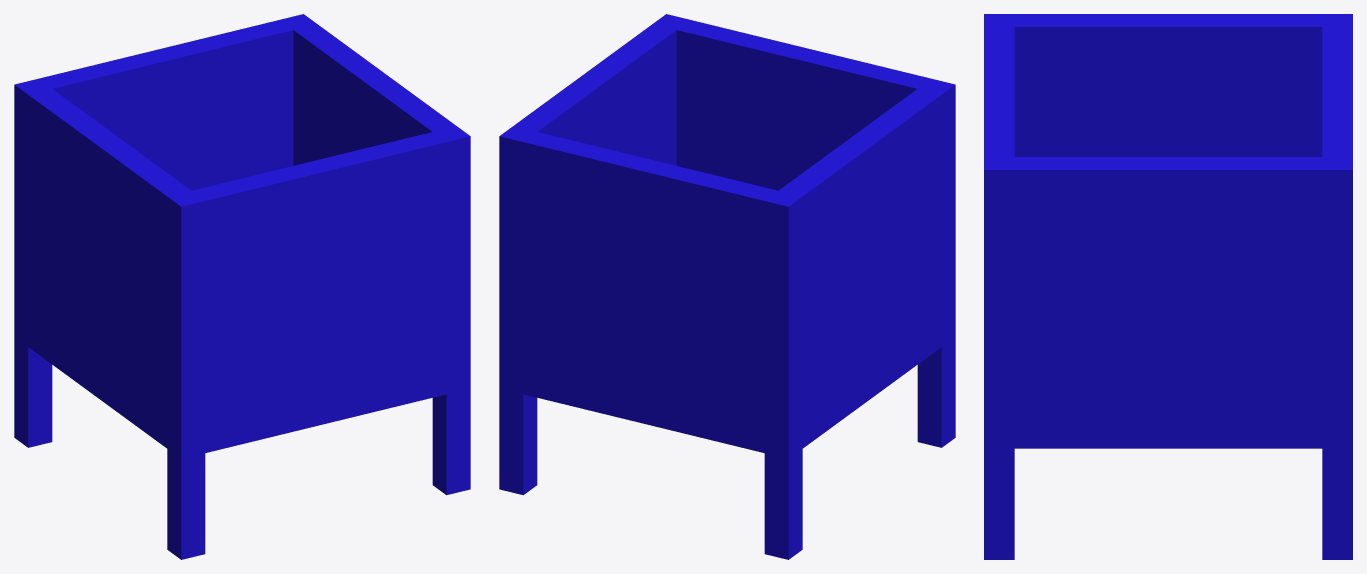
The model's file is bin.dae.
3 views of the same model, side by side, from view 1: azimuth 30°, elevation 25°; view 2: azimuth 150°, elevation 25°; view 3: azimuth 270°, elevation 25° (orthographic). The views are drawn at different scales.
Parts seen in each view (by area): view 1: bin v1; view 2: bin v1; view 3: bin v1.
Boxes of the visible parts, x1,y1,x2,y2 form: bin v1: [14, 14, 470, 559]; bin v1: [499, 14, 955, 559]; bin v1: [984, 14, 1352, 559].
Size of the model in its own units: 0.3 by 0.3 by 0.35.
